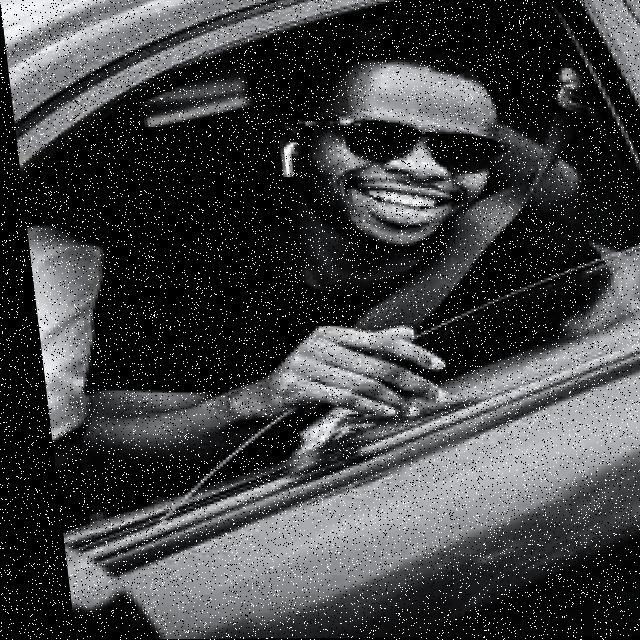seatbelt: (115, 199, 604, 395)
